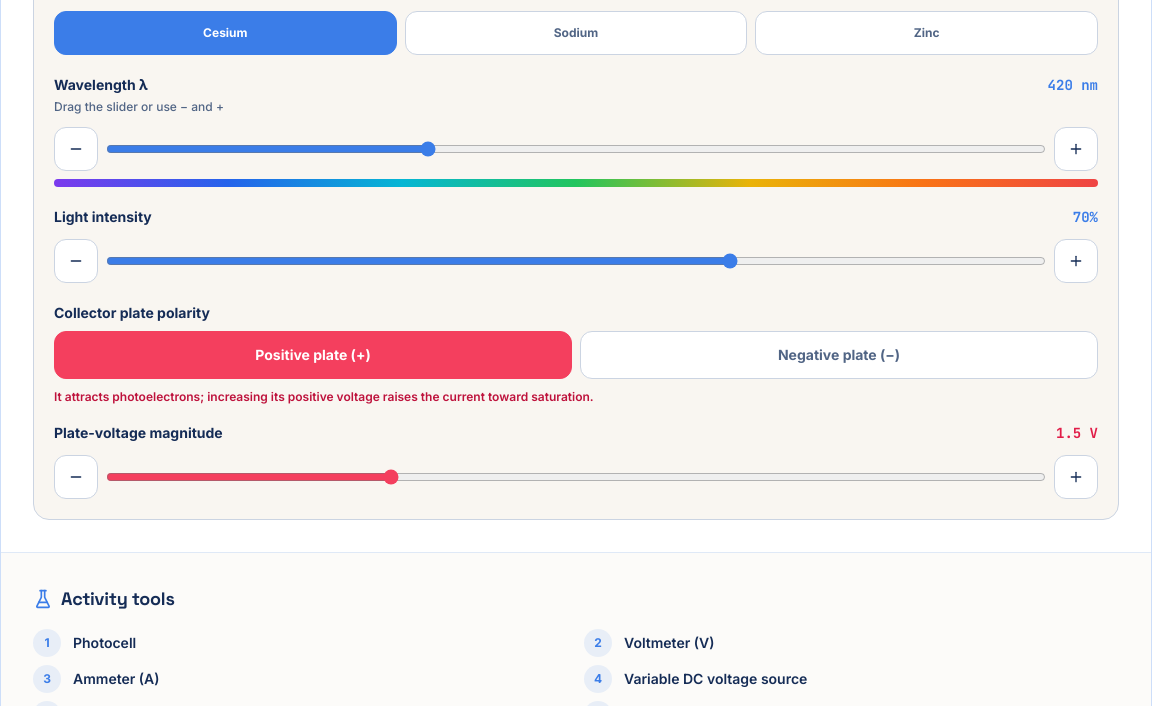
Test: PhotoelectricEffectActivity › lets the student switch the collector plate polarity and increase its negativity
Later steps or results of the test are not shown.
(page scrolled)
Step 1. Click the button "Negative plate (−)" → coordinates (839, 355), box [580, 331, 1098, 379]
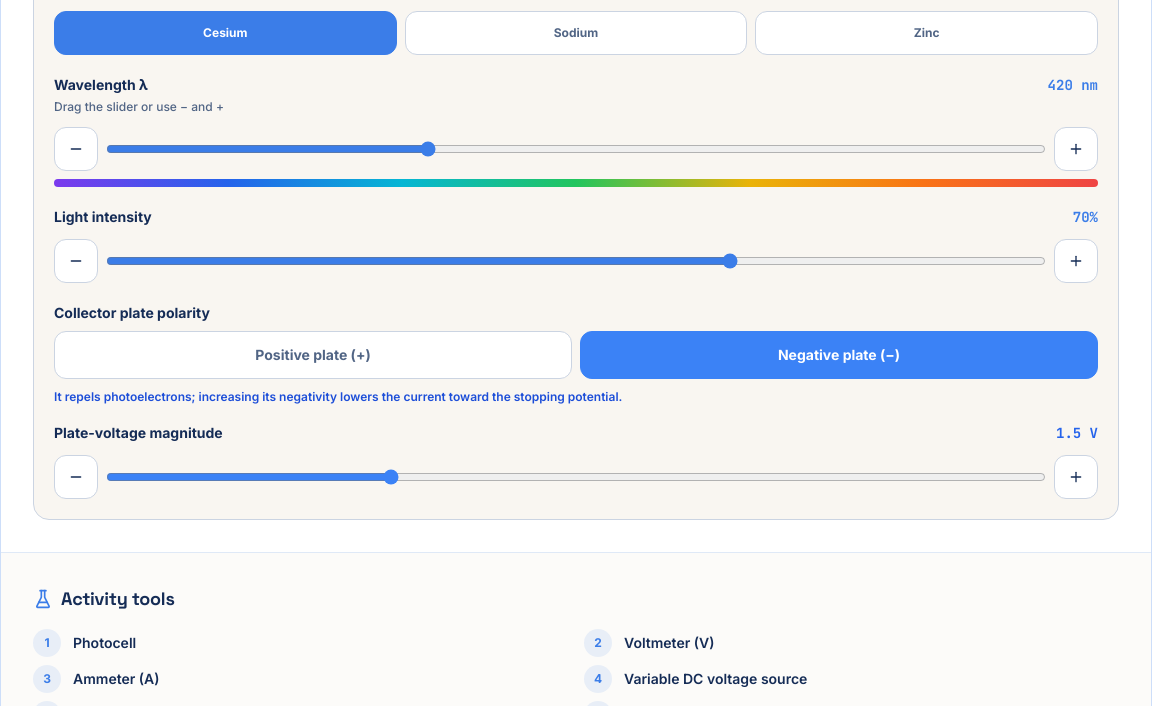
expect the button "Negative plate (−)" is pressed: met, box [580, 331, 1098, 379]
